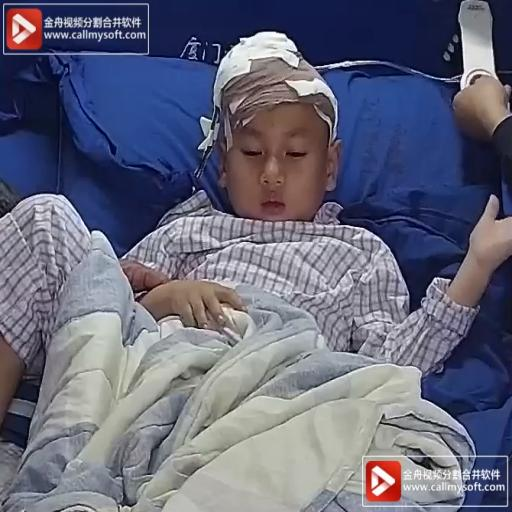Seizure: (170, 27, 346, 231)
